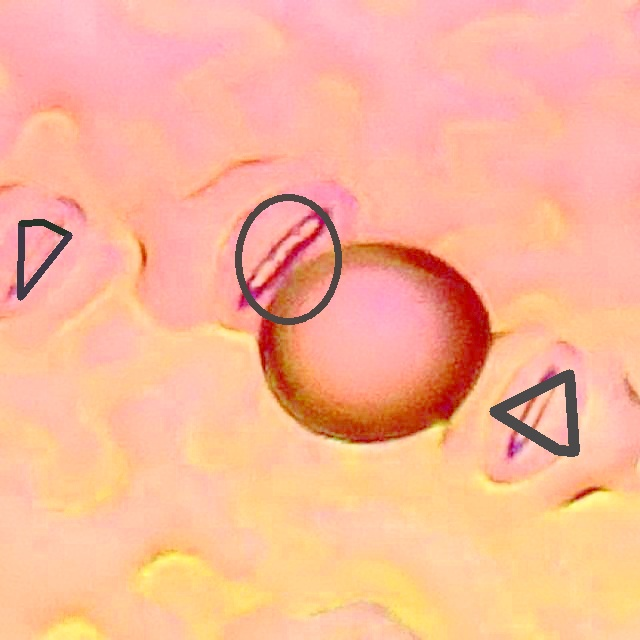open: (233, 194, 343, 325), (489, 370, 578, 454), (18, 219, 72, 300)
